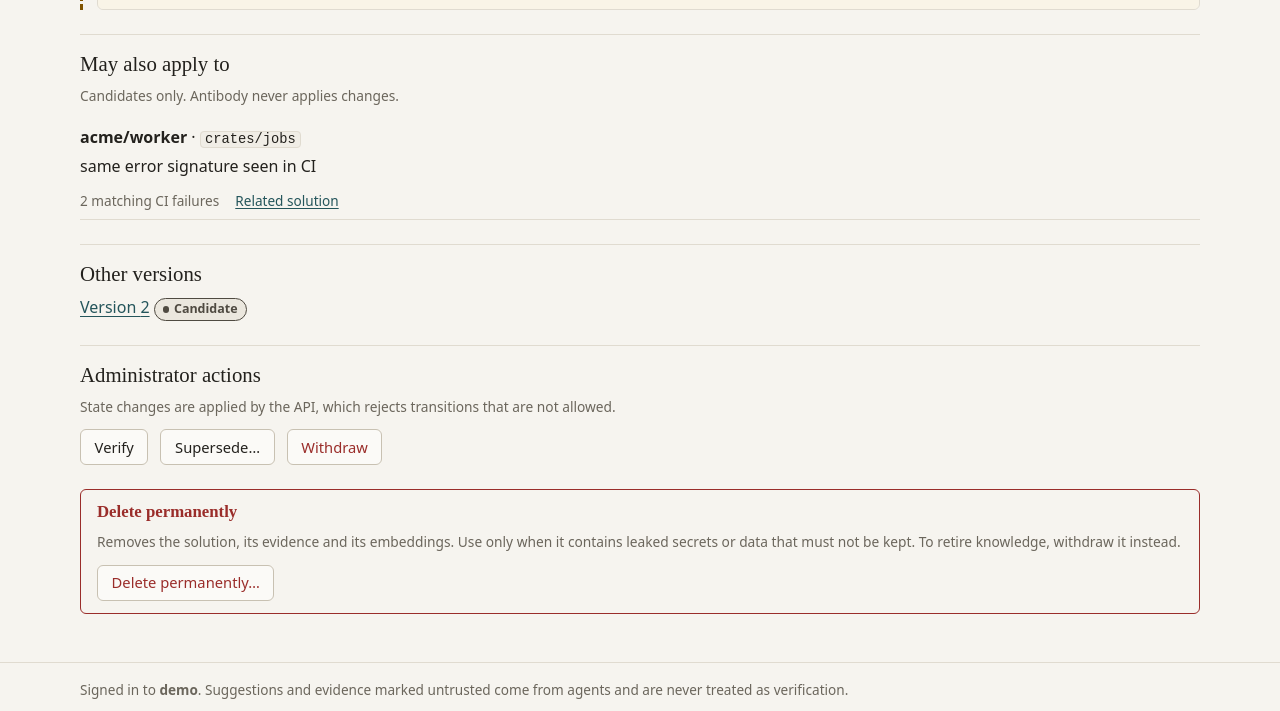
Test case: solution detail › keeps solution B and targets B after a delayed verification of A completes
(page scrolled)
What coordinates should you click on to do the following:
click the button "Verify"
I would click on:
 (114, 447)
Its box is [80,429,148,465].
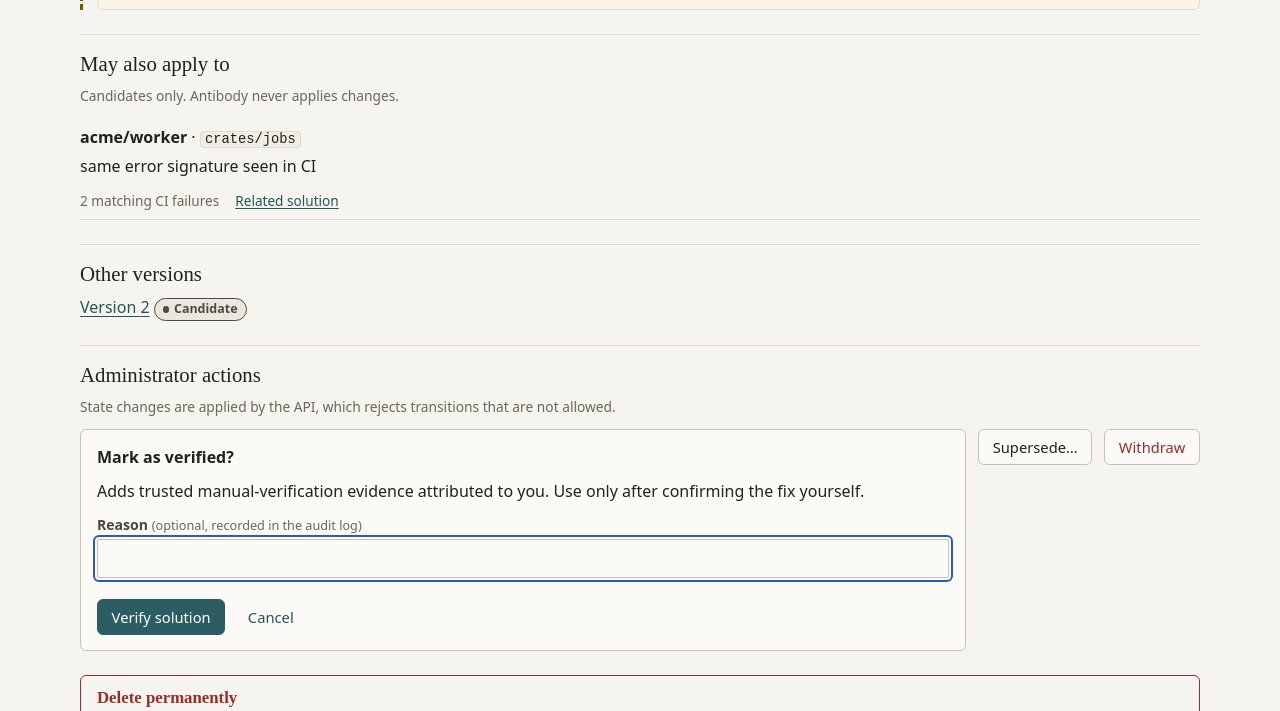
What coordinates should you click on to do the following:
click the button "Verify solution"
I would click on:
 (161, 617)
Its box is [97,599,225,635].
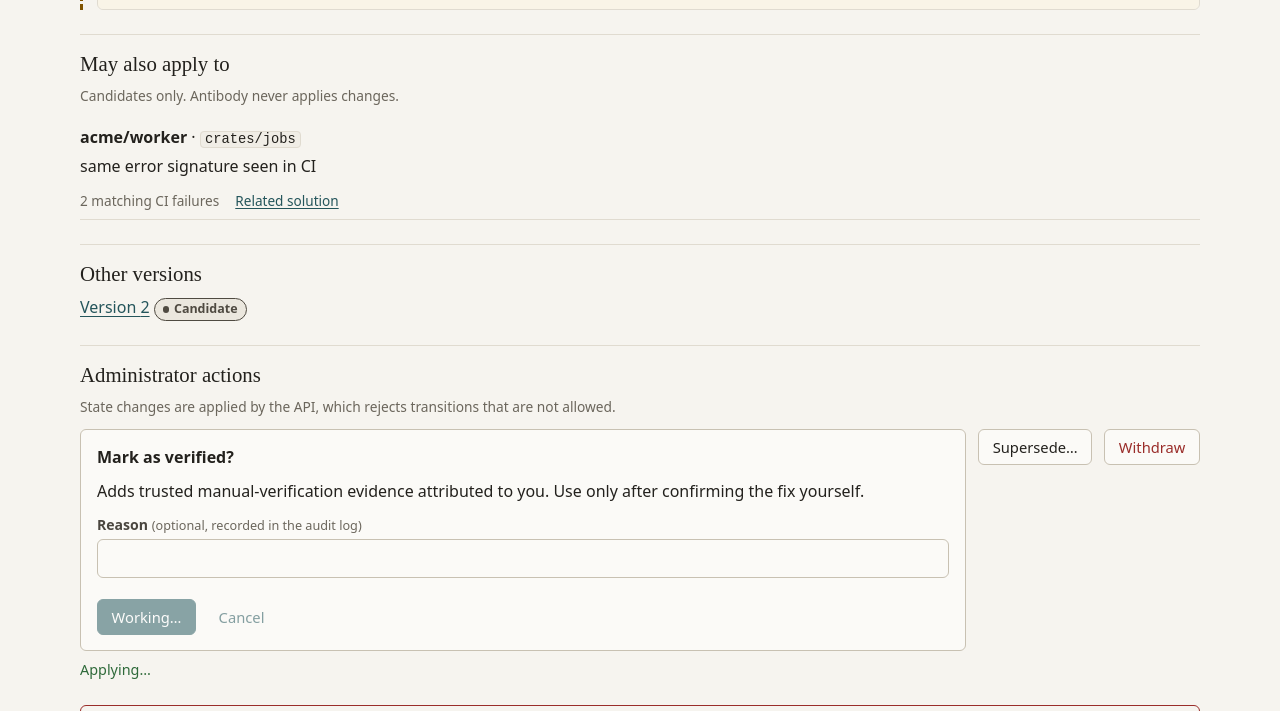
What coordinates should you click on to do the following:
click the link "Version 2"
I would click on:
 (110, 307)
Its box is [80,296,150,318].
(page scrolled)
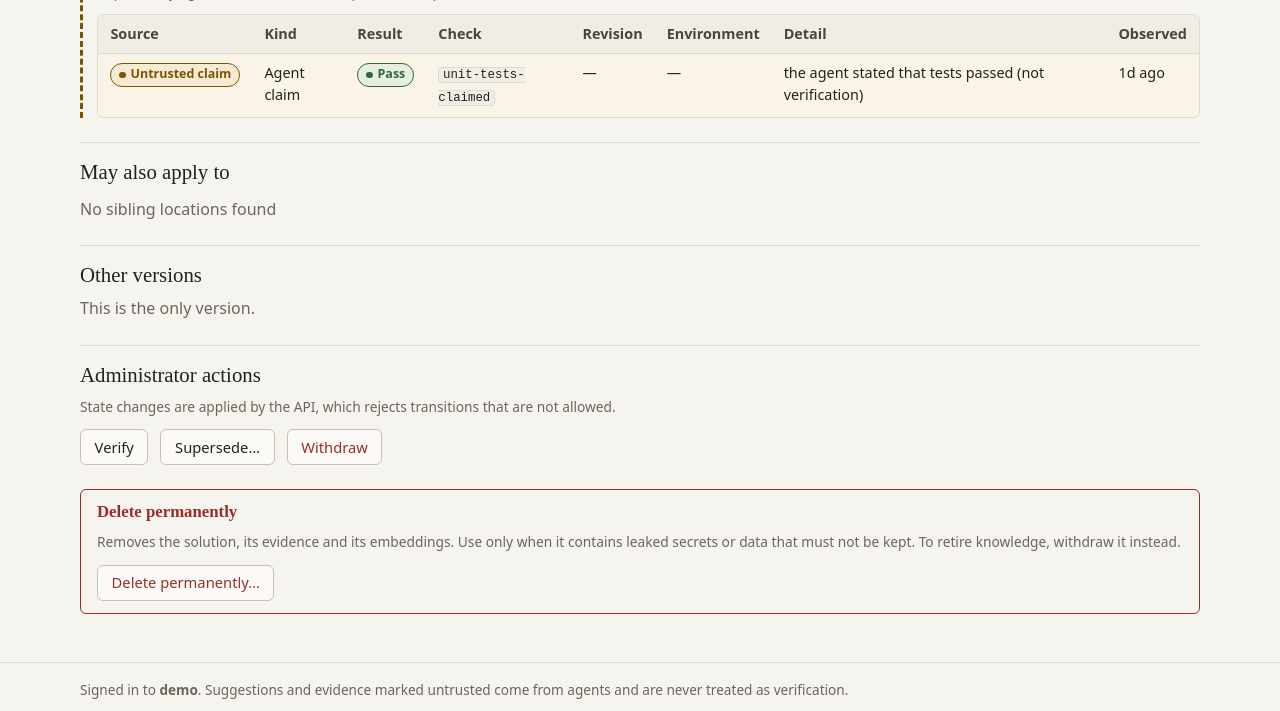
What coordinates should you click on to do the following:
click the button "Verify"
I would click on:
 (114, 447)
Its box is [80,429,148,465].
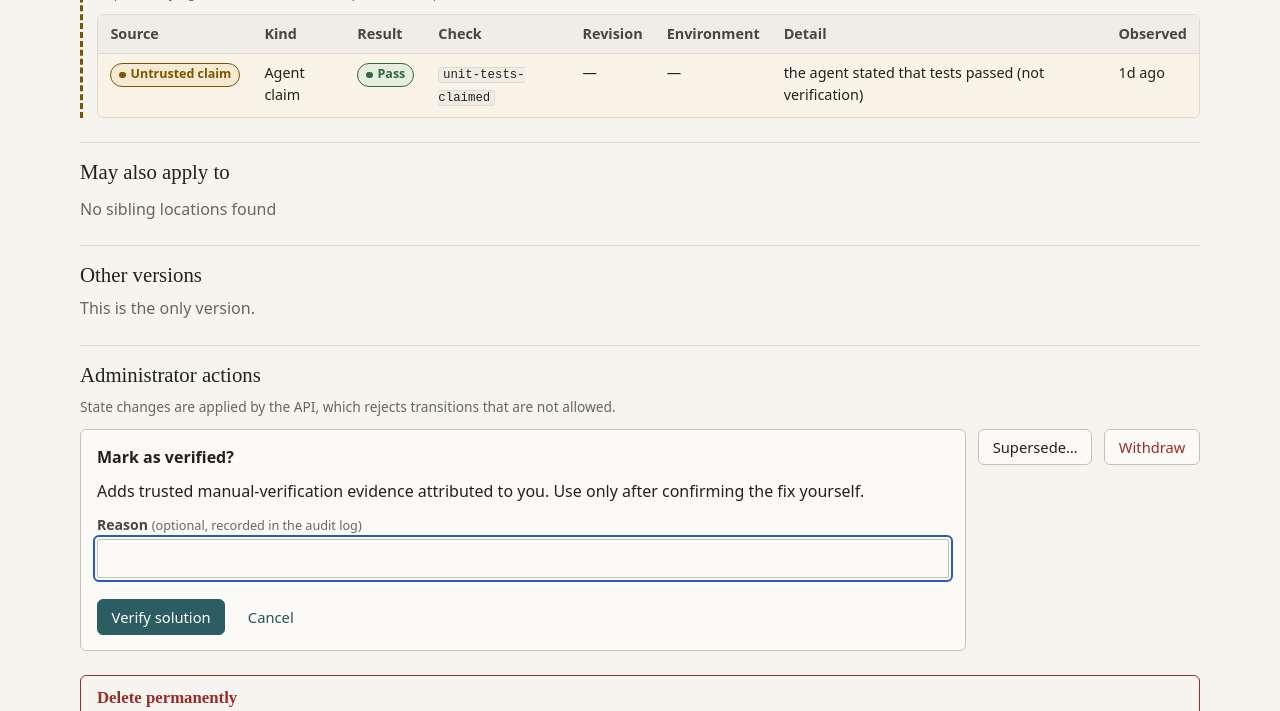
What coordinates should you click on to do the following:
click the button "Verify solution"
I would click on:
 (161, 617)
Its box is [97,599,225,635].
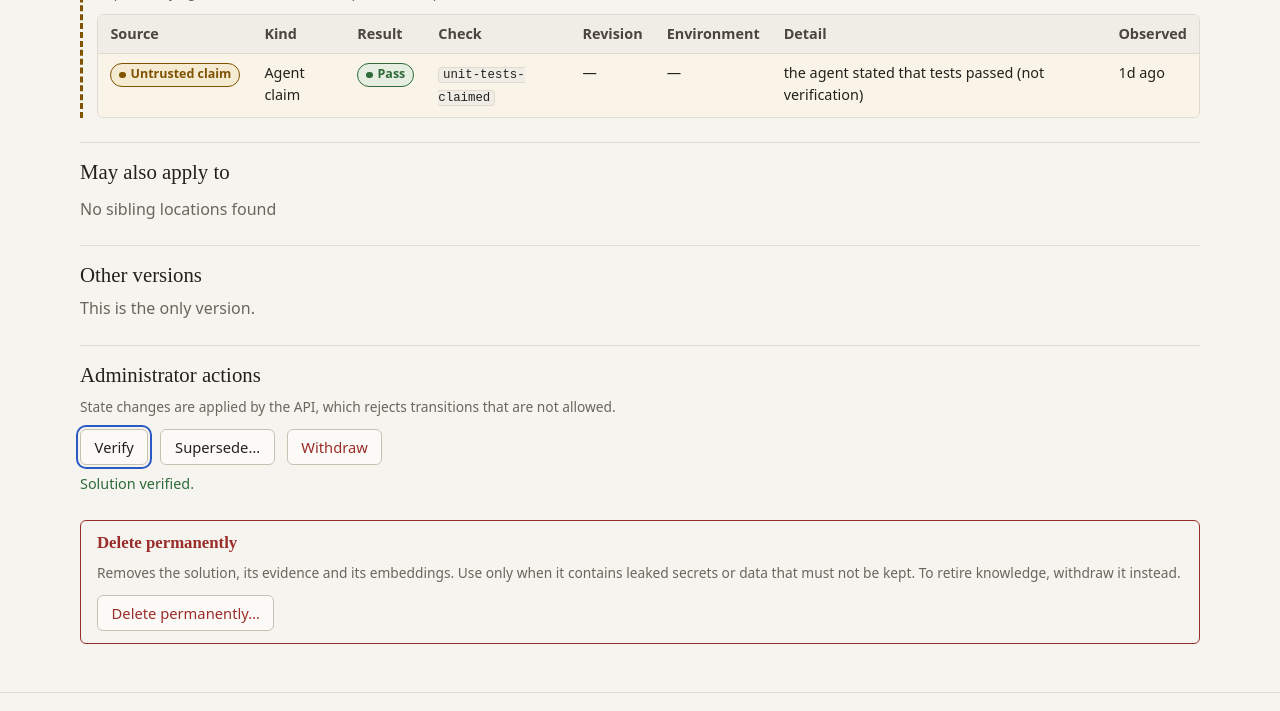
Now the text "Solution verified." is shown, box [80,474,194,493]
